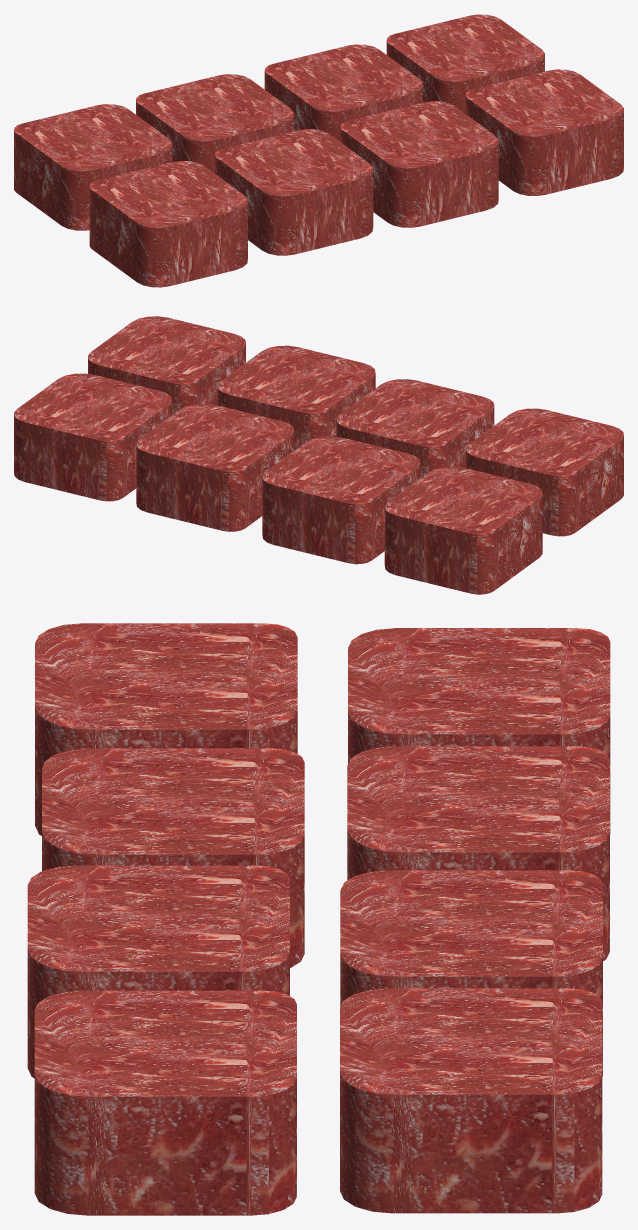
File: daging-kecil-banyak.fbx
The picture shows the model from 3 angles, top to bottom: view 1: azimuth 30°, elevation 25°; view 2: azimuth 150°, elevation 25°; view 3: azimuth 270°, elevation 25°; orthographic projection. The views are drawn at different scales.
Parts seen in each view (by area): view 1: Cube.003, Cube, Cube.004, Cube.007, Cube.002, Cube.006, Cube.005, Cube.001; view 2: Cube.002, Cube.006, Cube.001, Cube.005, Cube.003, Cube.007, Cube, Cube.004; view 3: Cube.004, Cube.005, Cube.007, Cube.003, Cube.001, Cube, Cube.002, Cube.006.
Boxes of the visible parts, box(x1,y1,x2,y2) form: Cube.003: box(89, 161, 247, 287); Cube: box(215, 129, 373, 255); Cube.004: box(465, 69, 623, 195); Cube.007: box(340, 101, 498, 227); Cube.002: box(14, 104, 172, 230); Cube.006: box(264, 44, 422, 141); Cube.005: box(386, 14, 544, 113); Cube.001: box(136, 74, 294, 173); Cube.002: box(384, 466, 542, 594); Cube.006: box(136, 404, 294, 531); Cube.001: box(262, 436, 420, 564); Cube.005: box(14, 373, 171, 501); Cube.003: box(466, 408, 623, 536); Cube.007: box(217, 345, 375, 450); Cube: box(336, 379, 494, 477); Cube.004: box(88, 316, 245, 415); Cube.004: box(34, 990, 296, 1215); Cube.005: box(340, 988, 602, 1213); Cube.007: box(27, 865, 289, 1078); Cube.003: box(35, 623, 297, 835); Cube.001: box(347, 746, 609, 960); Cube: box(42, 748, 304, 967); Cube.002: box(348, 628, 610, 834); Cube.006: box(340, 870, 602, 1076).
Bounding box in the file's own units: 233 × 27.99 × 121.
